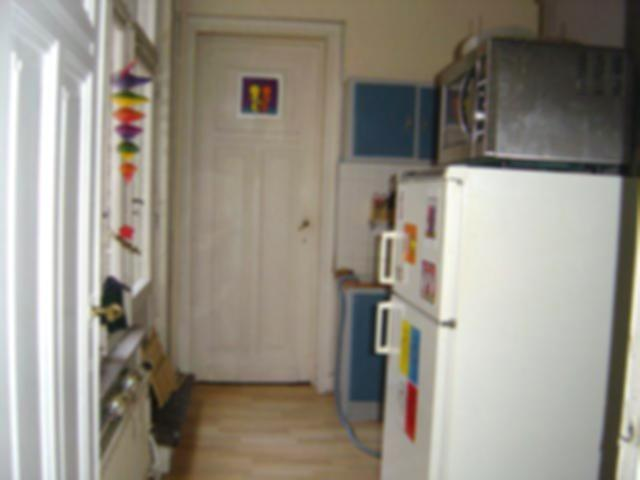Electrodomestico: (405, 174, 601, 473)
Puerta: (188, 25, 313, 382), (5, 26, 96, 470)
